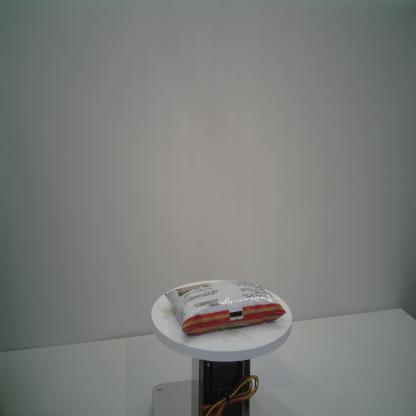Seasoner: (165, 278, 286, 335)
